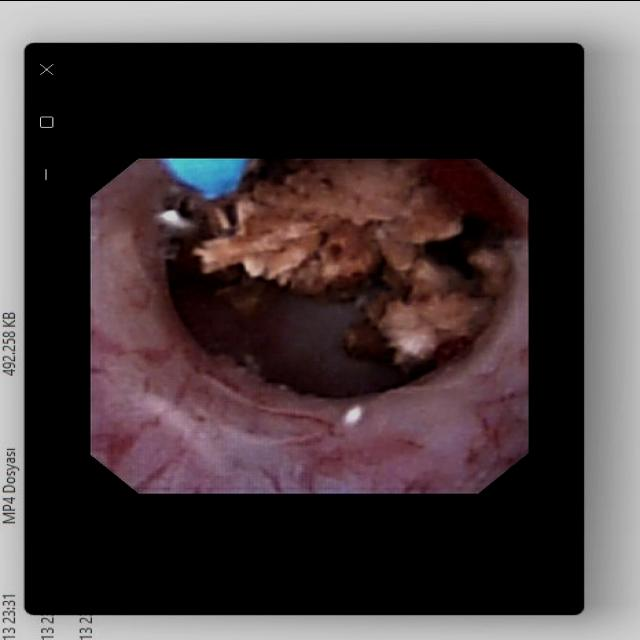stone: (166, 162, 510, 369)
